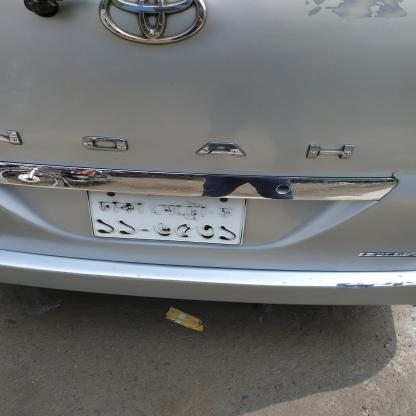license_plate: (48, 180, 292, 258)
